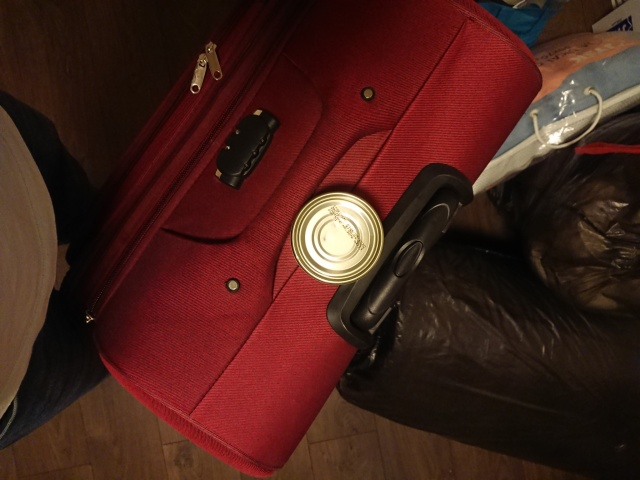Giana Tuna Salad Mexico 185g: (288, 189, 386, 286)
